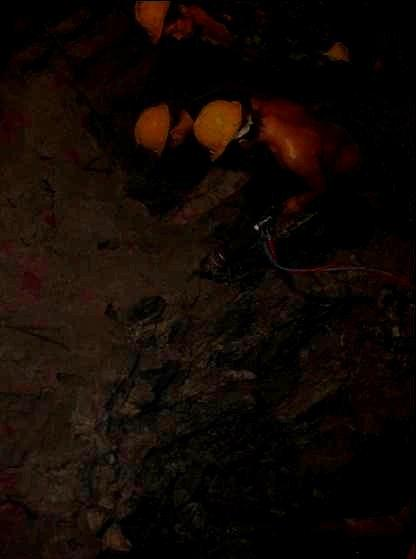helmet: (192, 98, 264, 162), (133, 100, 188, 158), (133, 0, 197, 45)
